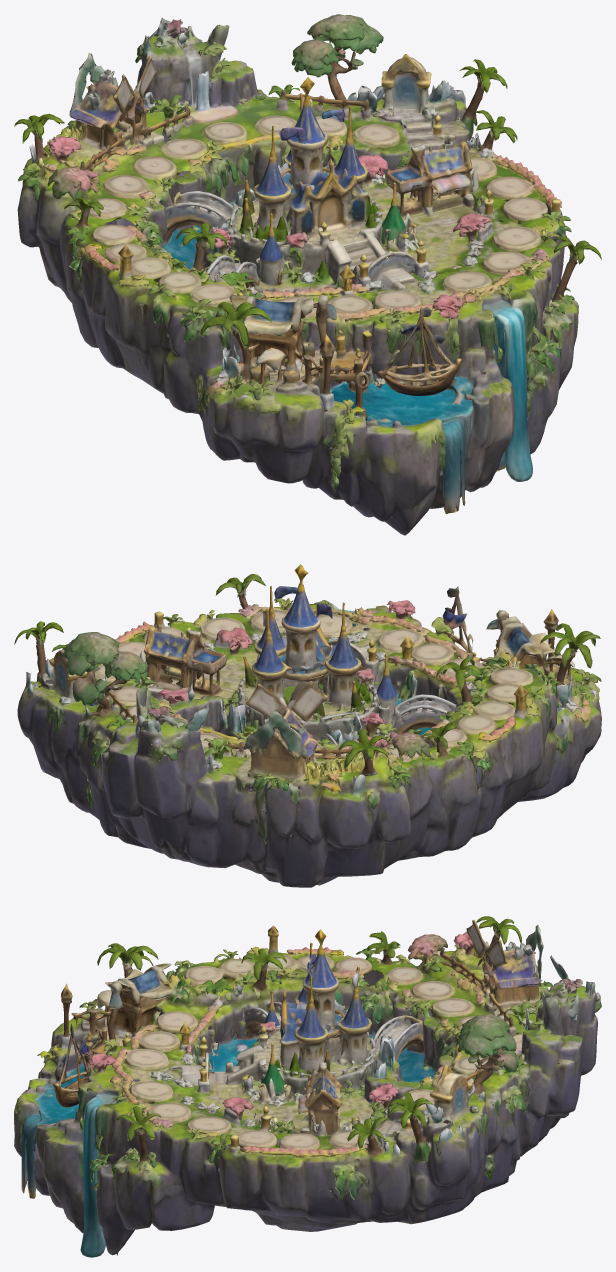
The model's file is insula1_tripo.glb.
3 renders of one model, top to bottom at view 1: azimuth 30°, elevation 25°; view 2: azimuth 150°, elevation 25°; view 3: azimuth 270°, elevation 25°, orthographic. The views are drawn at different scales.
Parts seen in each view (by area): view 1: world; view 2: world; view 3: world.
Part boxes in pixels (x1,y1,x2,y2): world: (14,14,601,535); world: (14,564,601,887); world: (14,916,601,1257).
Size of the model in its own units: 0.8184 by 0.549 by 0.9993.
1 material, 1 textured.
